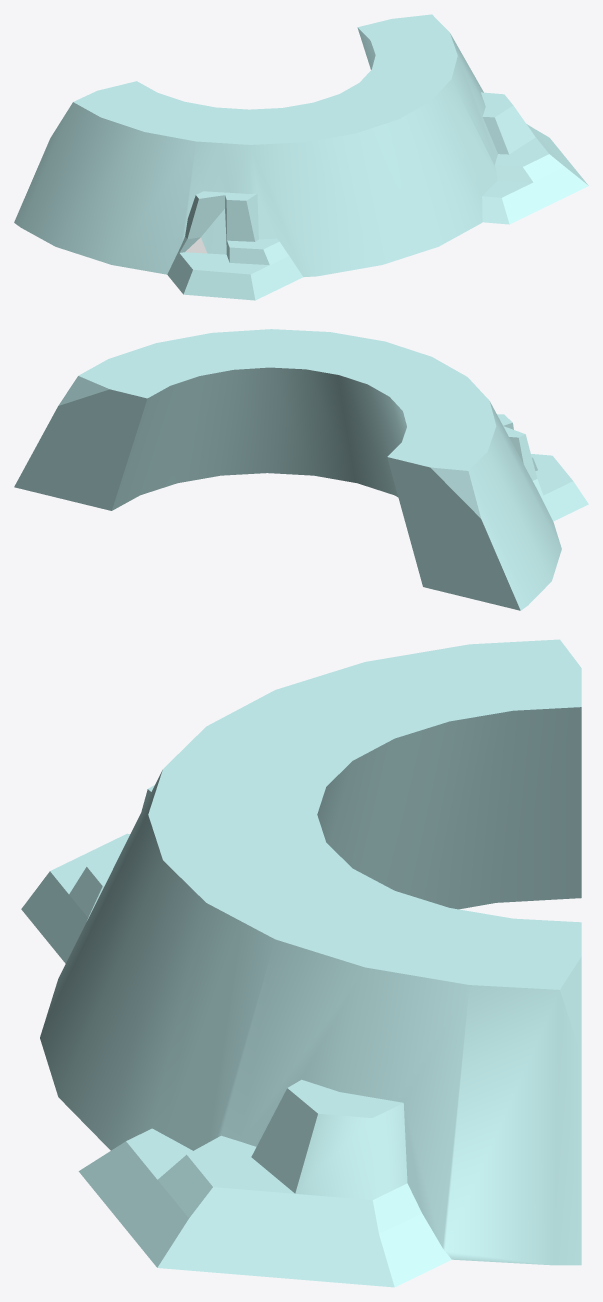
The model's file is snowFort.fbx.
3 views of the same model, one above another, from view 1: azimuth 30°, elevation 25°; view 2: azimuth 150°, elevation 25°; view 3: azimuth 270°, elevation 25° (orthographic). The views are drawn at different scales.
Visible parts, largest first — view 1: snowFort; view 2: snowFort; view 3: snowFort.
Part boxes in pixels (x1=…): snowFort: x1=14, y1=14, x2=588, y2=300; snowFort: x1=14, y1=329, x2=588, y2=610; snowFort: x1=21, y1=639, x2=581, y2=1287.
Bounding box in the file's own units: 13.32 × 2.9 × 6.61.
